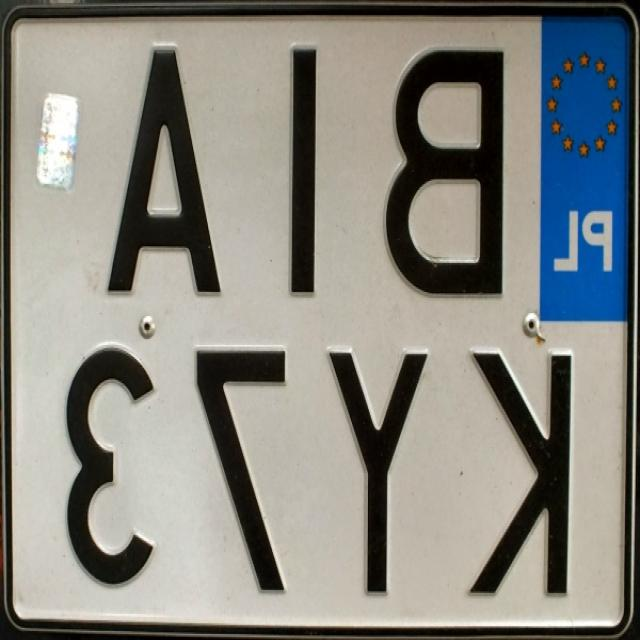pl_license_plate: (15, 14, 629, 617)
